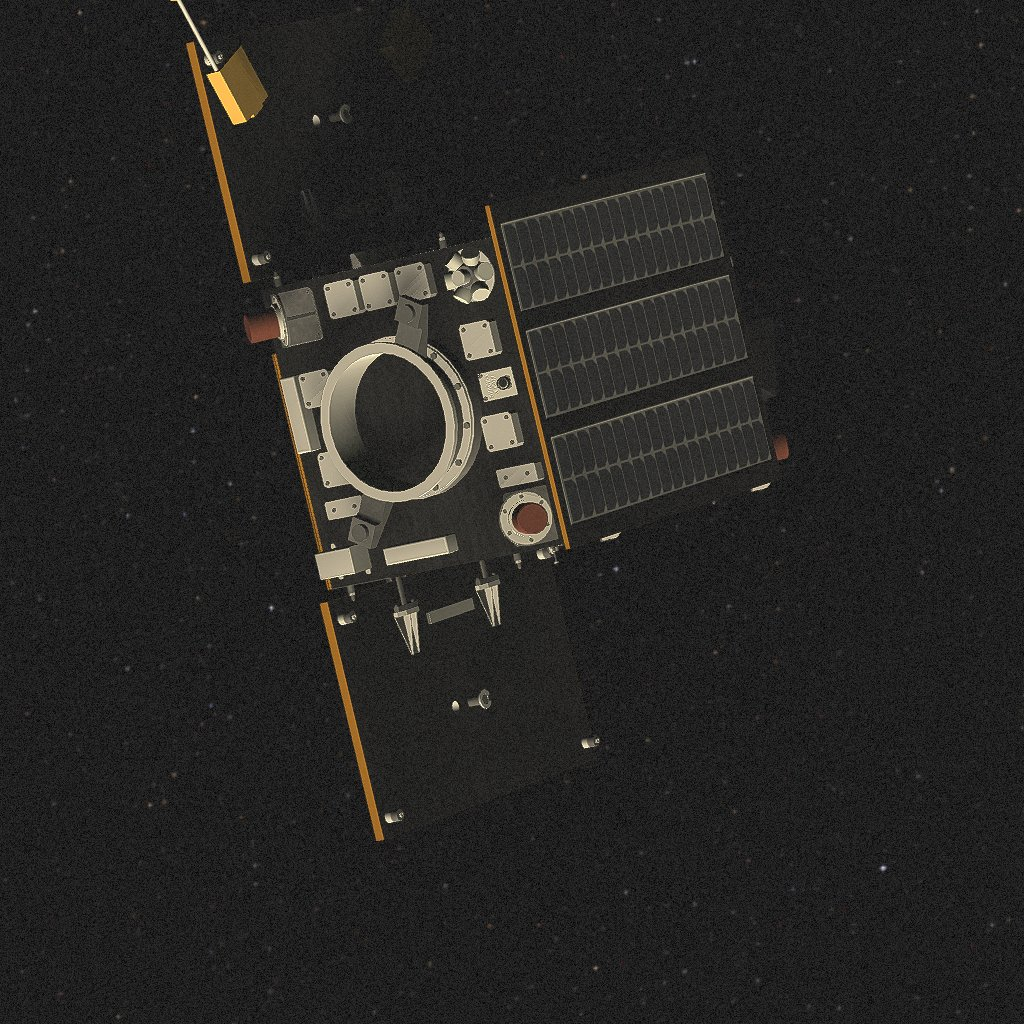proba_2: (171, 0, 789, 841)
